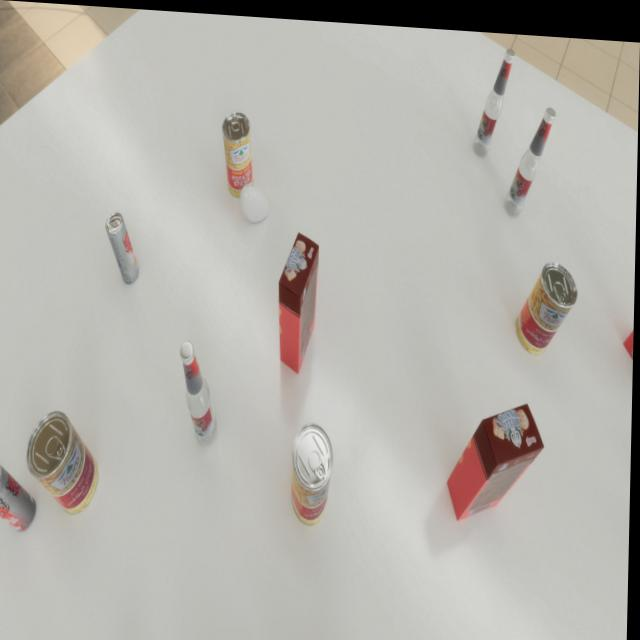Bottle: (505, 98, 557, 212), (474, 40, 515, 151), (180, 337, 221, 444)
HelloPanda: (448, 392, 547, 519), (279, 227, 321, 371)
Potato_sticks: (27, 408, 102, 514), (516, 252, 579, 350), (293, 418, 335, 522), (222, 108, 255, 195)
Rita_zero_sugar: (0, 461, 39, 532), (105, 210, 141, 283)
Salt: (241, 179, 270, 220)
